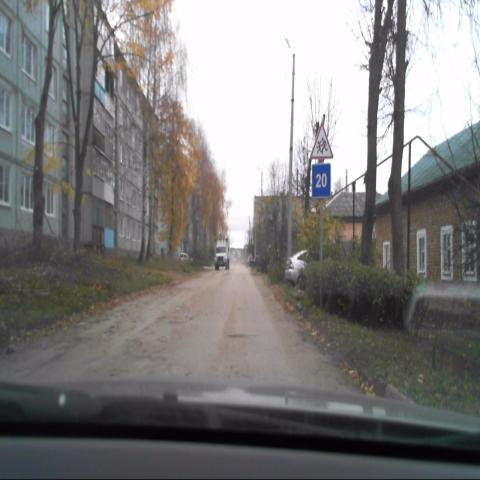6_2: (311, 163, 331, 197)
